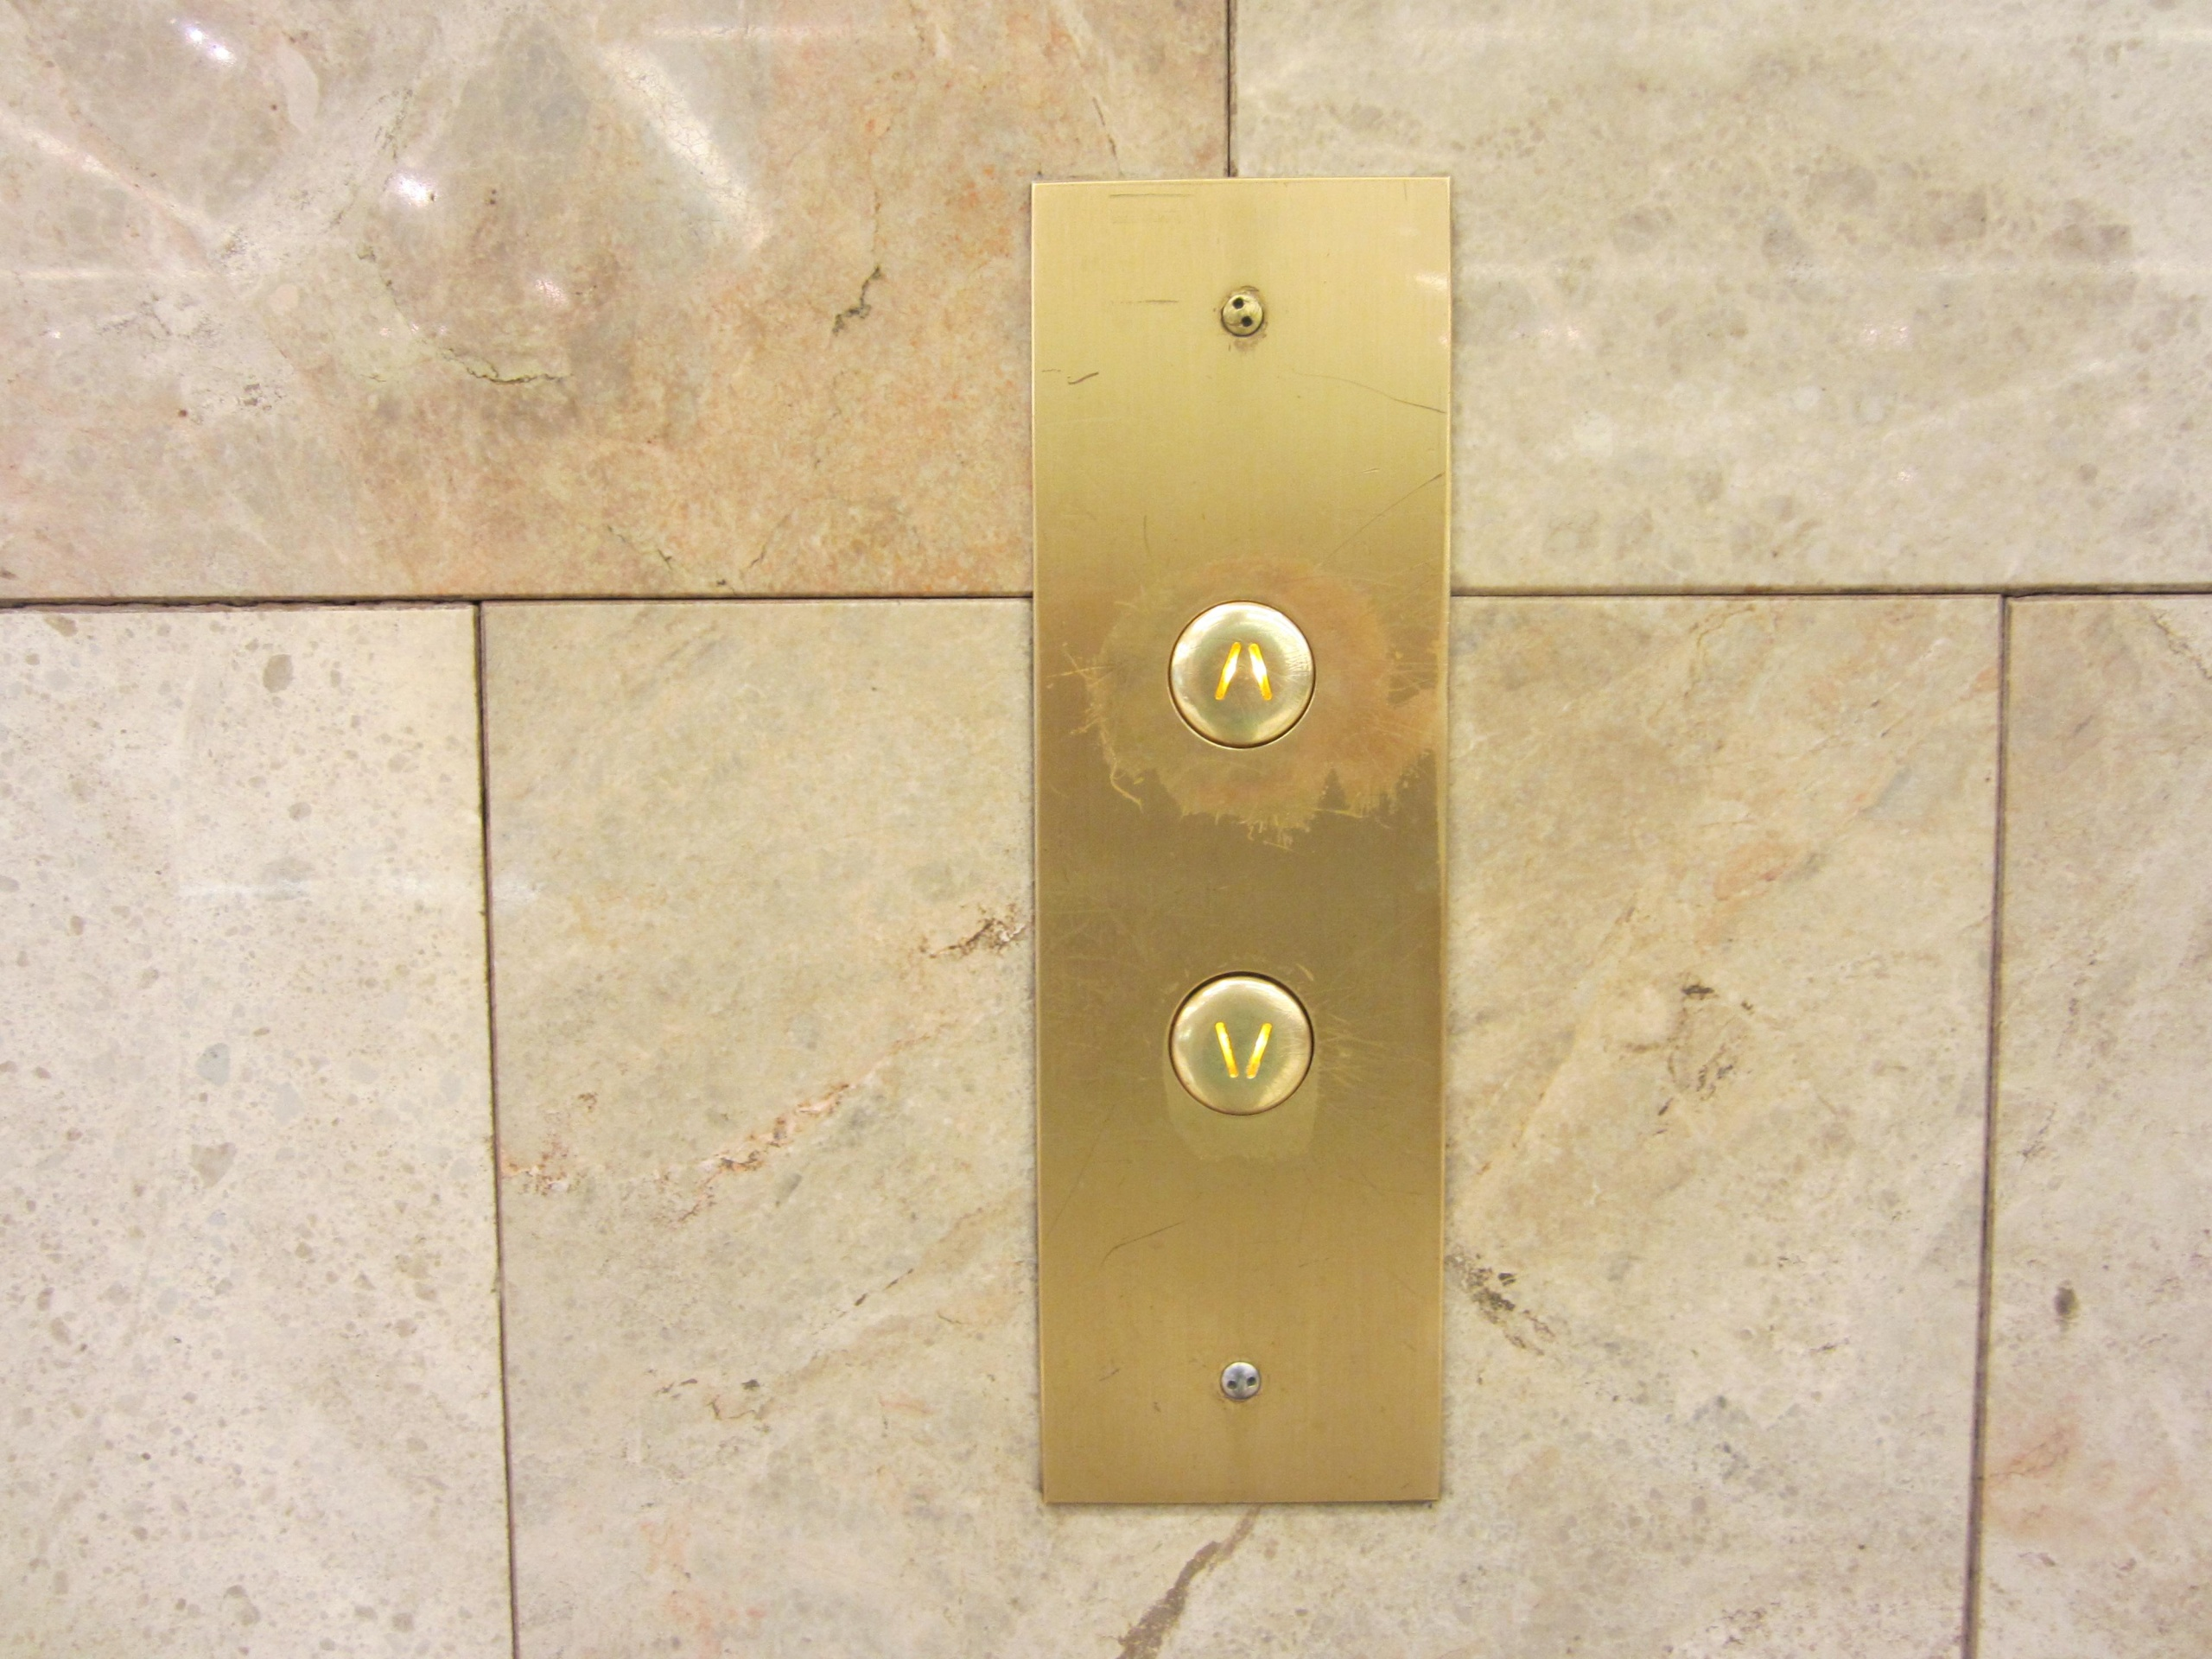down: (1158, 969, 1320, 1122)
up: (1167, 599, 1322, 755)
